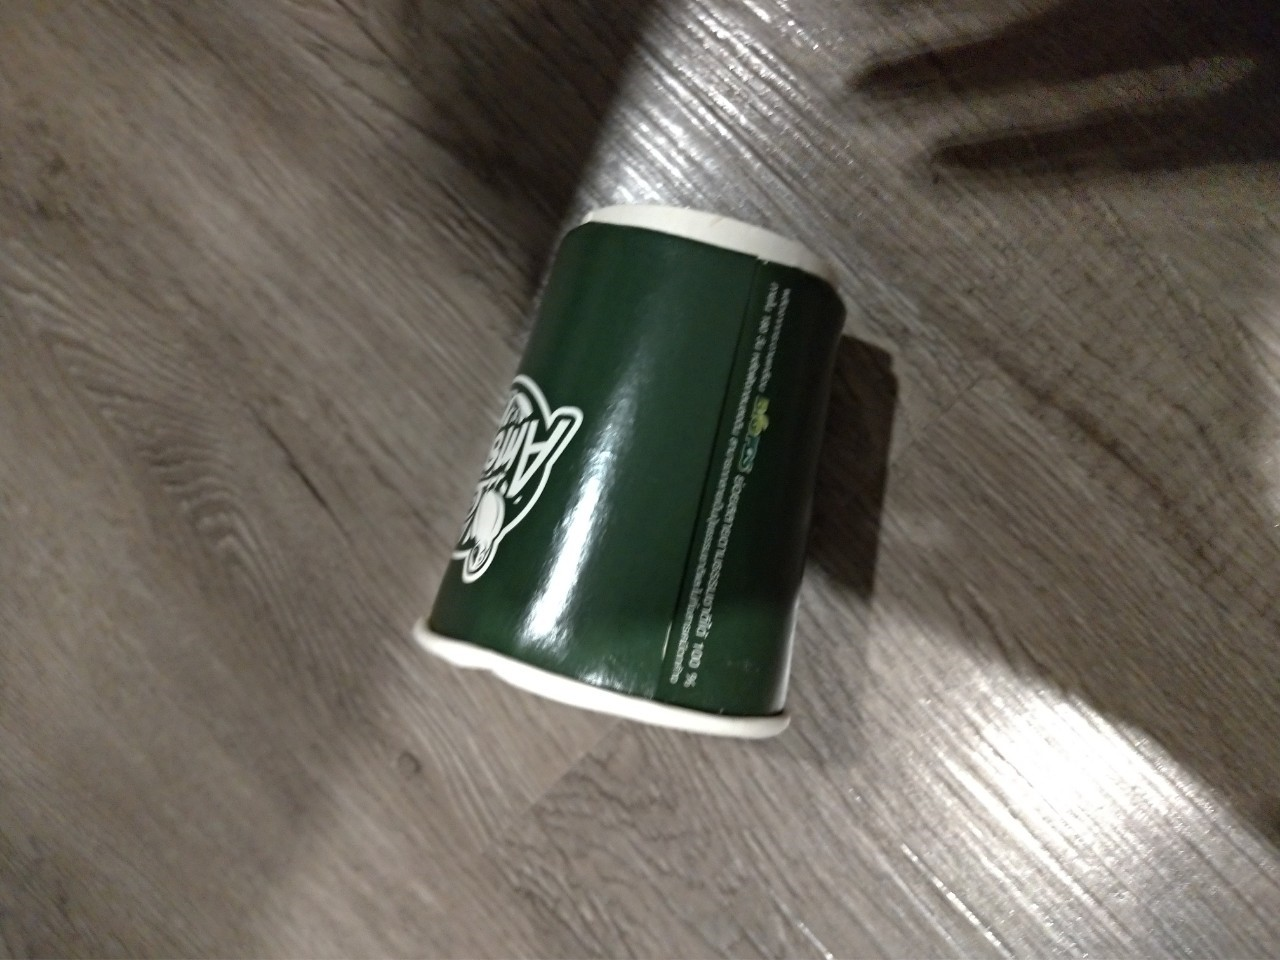PaperCup: (401, 200, 842, 747)
